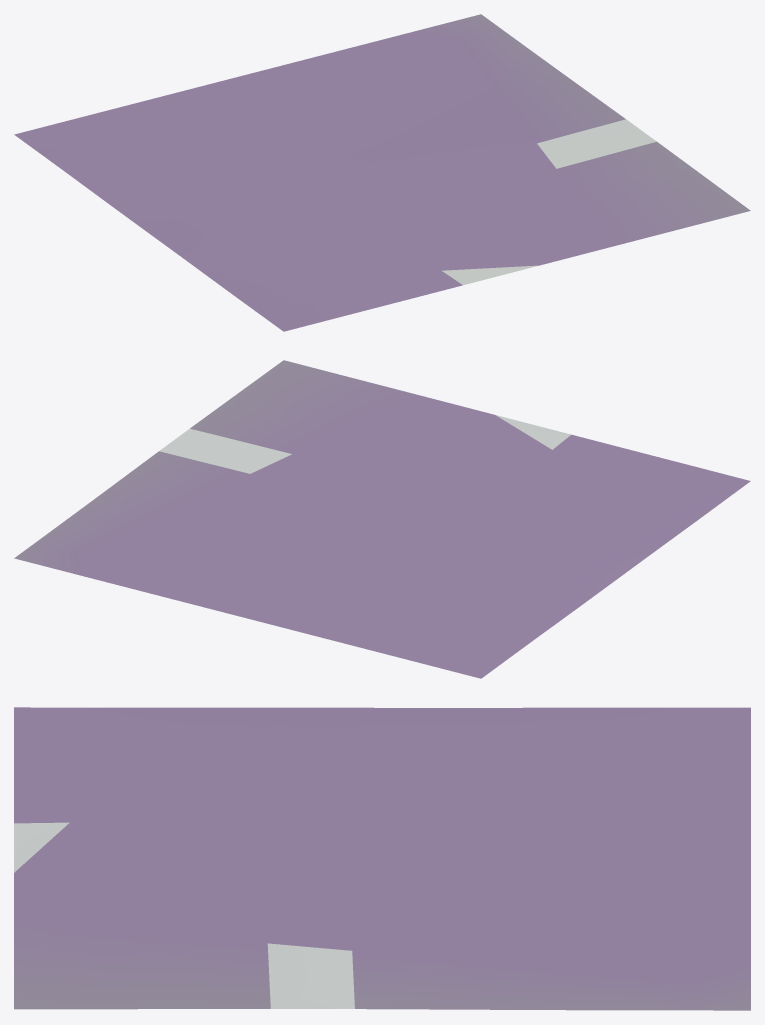
3 views of the same model, one above another, from view 1: azimuth 30°, elevation 25°; view 2: azimuth 150°, elevation 25°; view 3: azimuth 270°, elevation 25° (orthographic). The views are drawn at different scales.
Parts seen in each view (by area): view 1: G:\FFXIV-MapTools\exports\m5f1\bg\ex4\02_mid_m5\fld\m5f1\bgp (×2); view 2: G:\FFXIV-MapTools\exports\m5f1\bg\ex4\02_mid_m5\fld\m5f1\bgp (×2); view 3: G:\FFXIV-MapTools\exports\m5f1\bg\ex4\02_mid_m5\fld\m5f1\bgp (×2).
Part boxes in pixels (<box>): G:\FFXIV-MapTools\exports\m5f1\bg\ex4\02_mid_m5\fld\m5f1\bgp (×2): <box>14,14,750,331</box>; G:\FFXIV-MapTools\exports\m5f1\bg\ex4\02_mid_m5\fld\m5f1\bgp (×2): <box>14,360,750,678</box>; G:\FFXIV-MapTools\exports\m5f1\bg\ex4\02_mid_m5\fld\m5f1\bgp (×2): <box>14,707,750,1010</box>.
Bounding box in the file's own units: 128 × 2 × 128.
